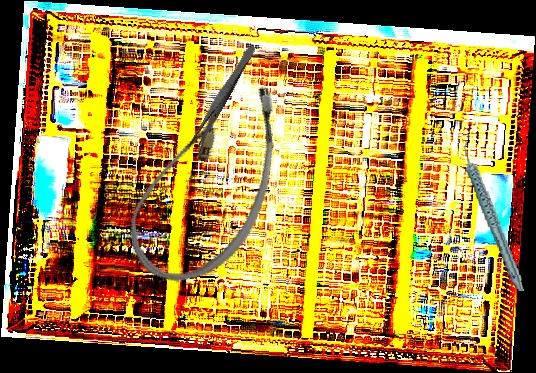Cannula: (114, 59, 301, 302)
Dressing Forceps: (187, 42, 258, 152)
Handpiece: (461, 134, 526, 297)
